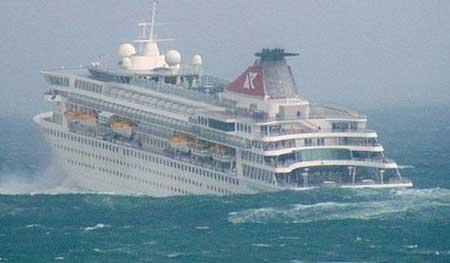youlun: (36, 33, 409, 202)
